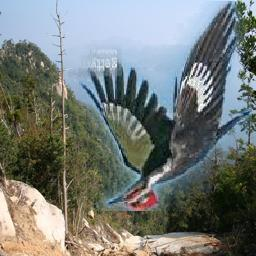Woodpecker: (80, 1, 253, 211)
